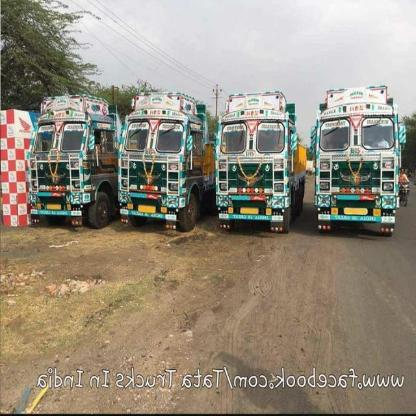truck: (309, 78, 408, 237), (216, 90, 312, 240), (116, 91, 216, 231), (28, 86, 122, 232)
